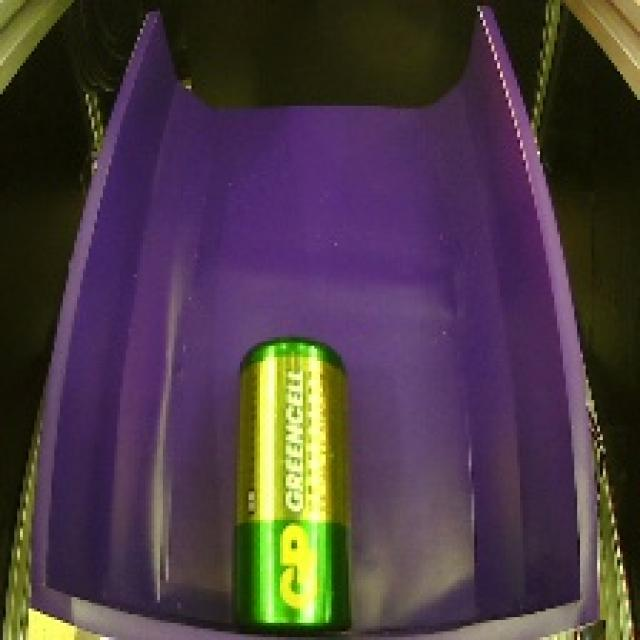battery: (223, 328, 360, 640)
